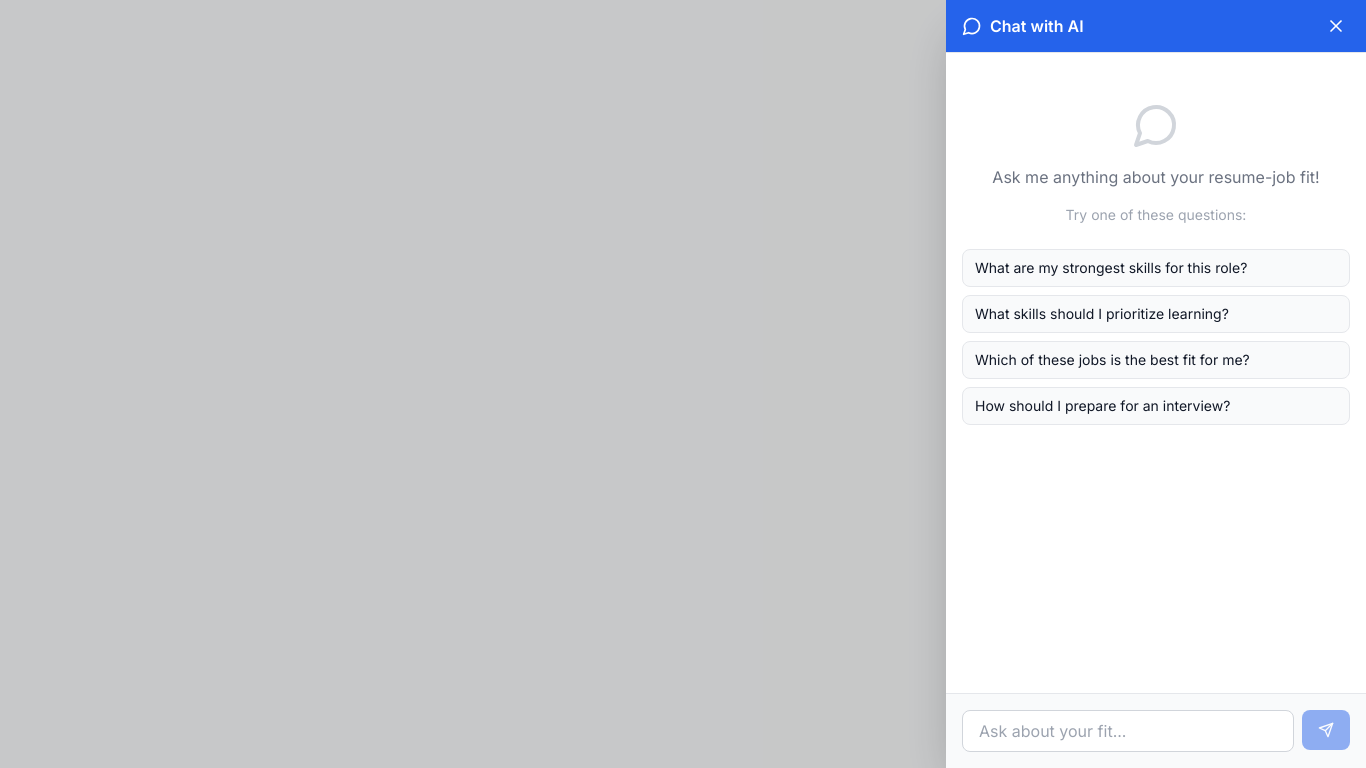
Test case: ChatPanel › Messages › displays AI response after receiving
The width and height of the screenshot is (1366, 768).
Type "Am I a good fit?" into the field with placeholder "Ask about your fit..." at (1128, 731), box [962,710,1294,752]
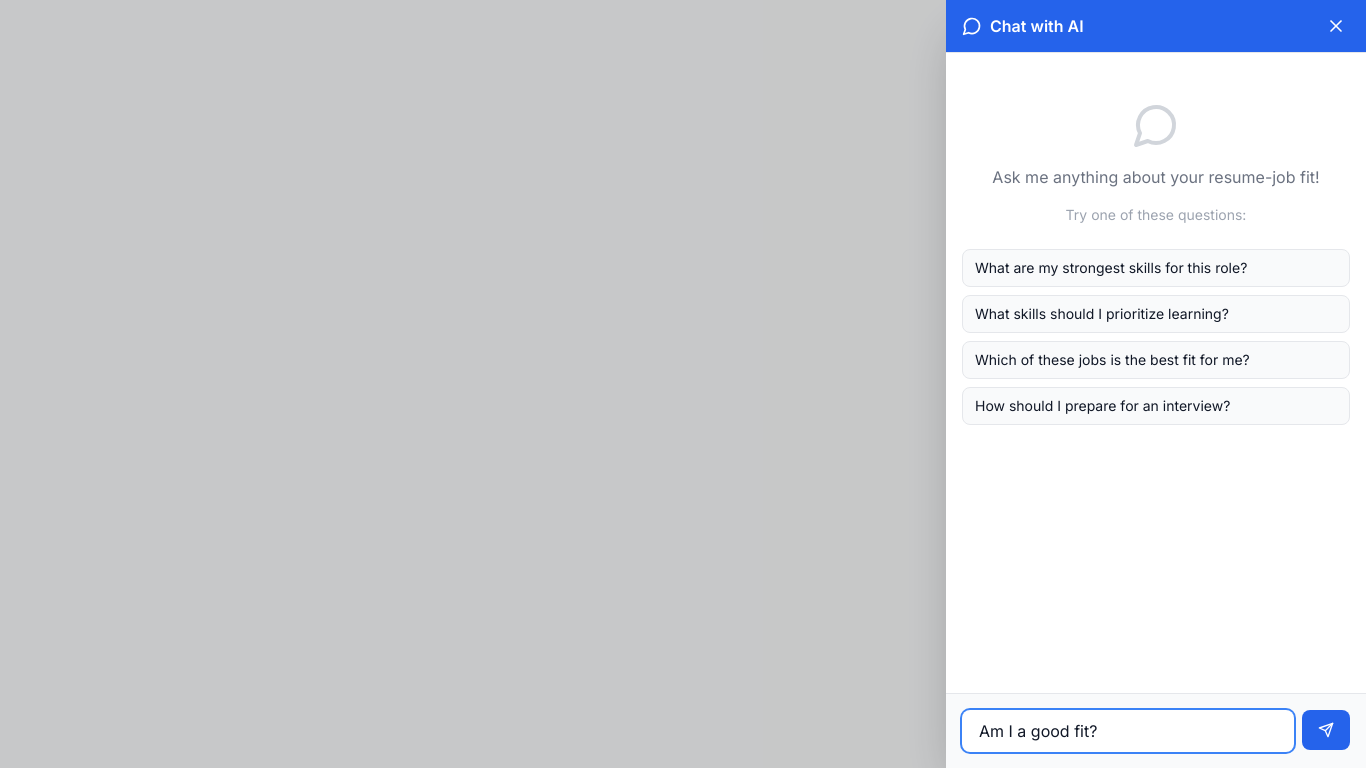
Press Enter
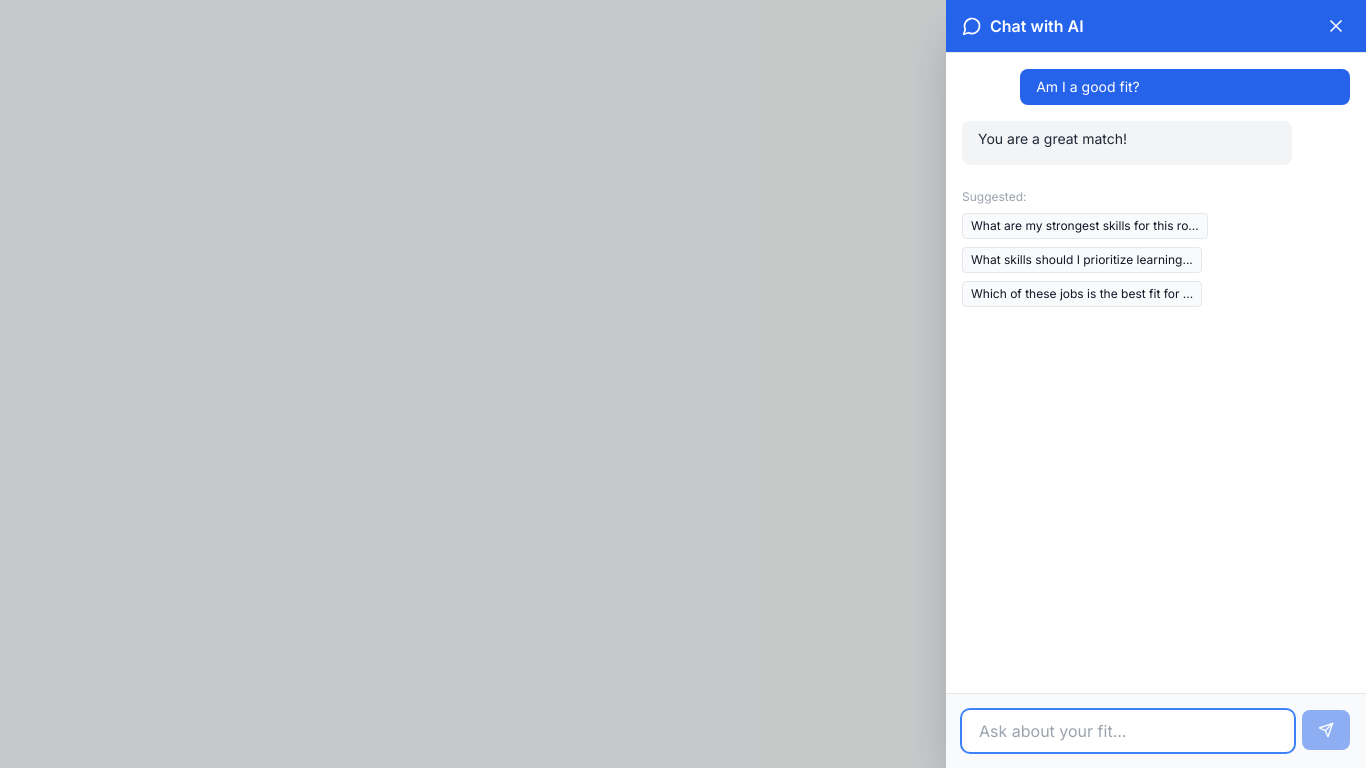
Now the text "You are a great match!" is shown, box [978,130,1127,147]
